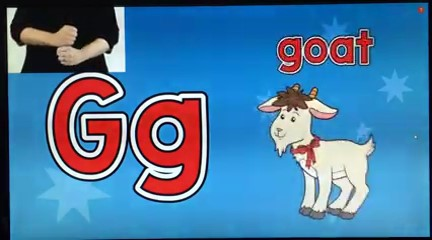G: (54, 23, 83, 69)
